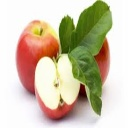apple: (34, 56, 81, 120)
